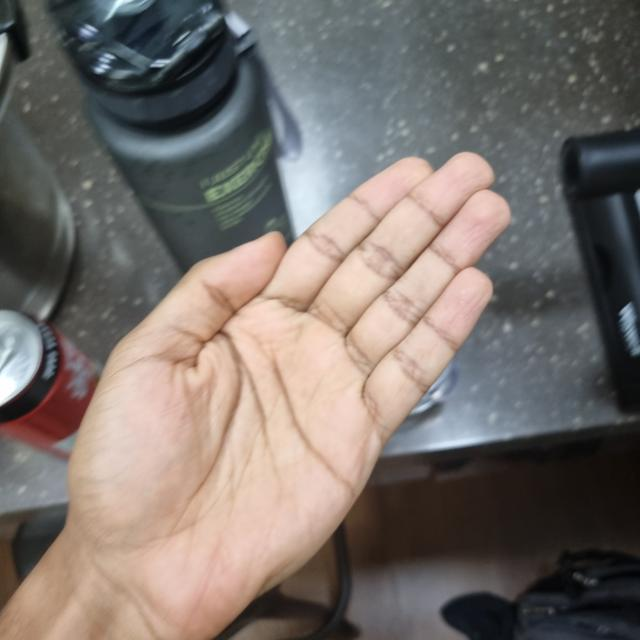Paper: (60, 163, 506, 637)
